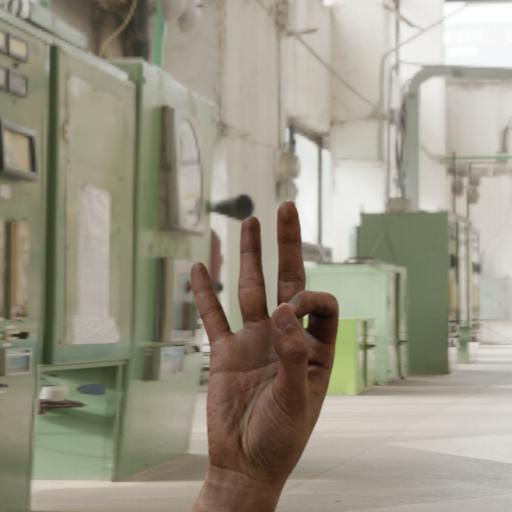F: (179, 189, 351, 512)
